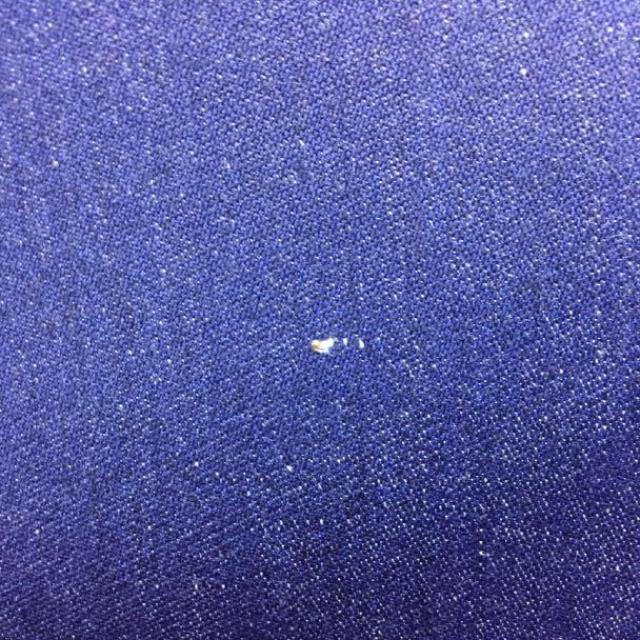Knot: (311, 337, 365, 354)
